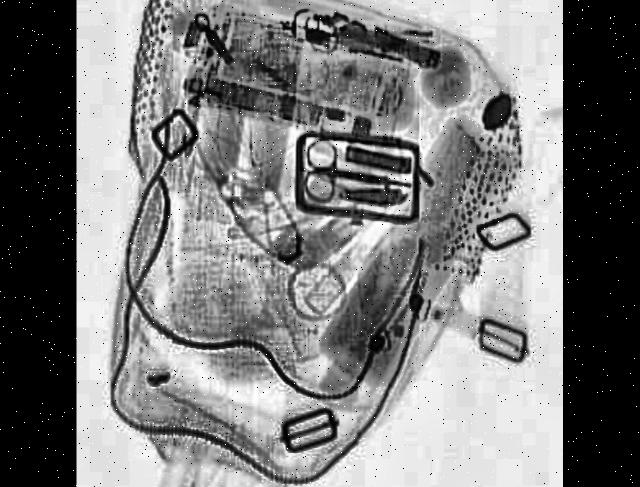Scissors: (302, 136, 412, 222)
